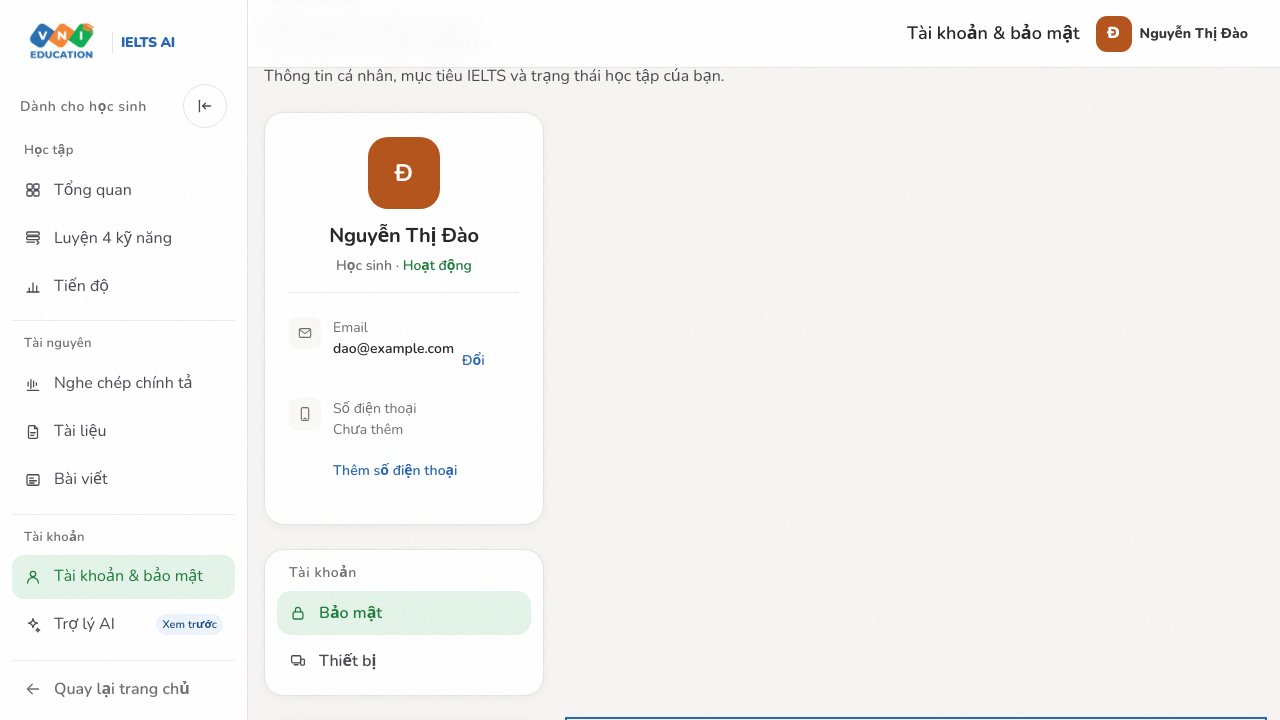
Test: lets an address be corrected after a typo
The width and height of the screenshot is (1280, 720).
(page scrolled)
Click the button "Đổi": click(473, 360) [462, 338, 485, 382]
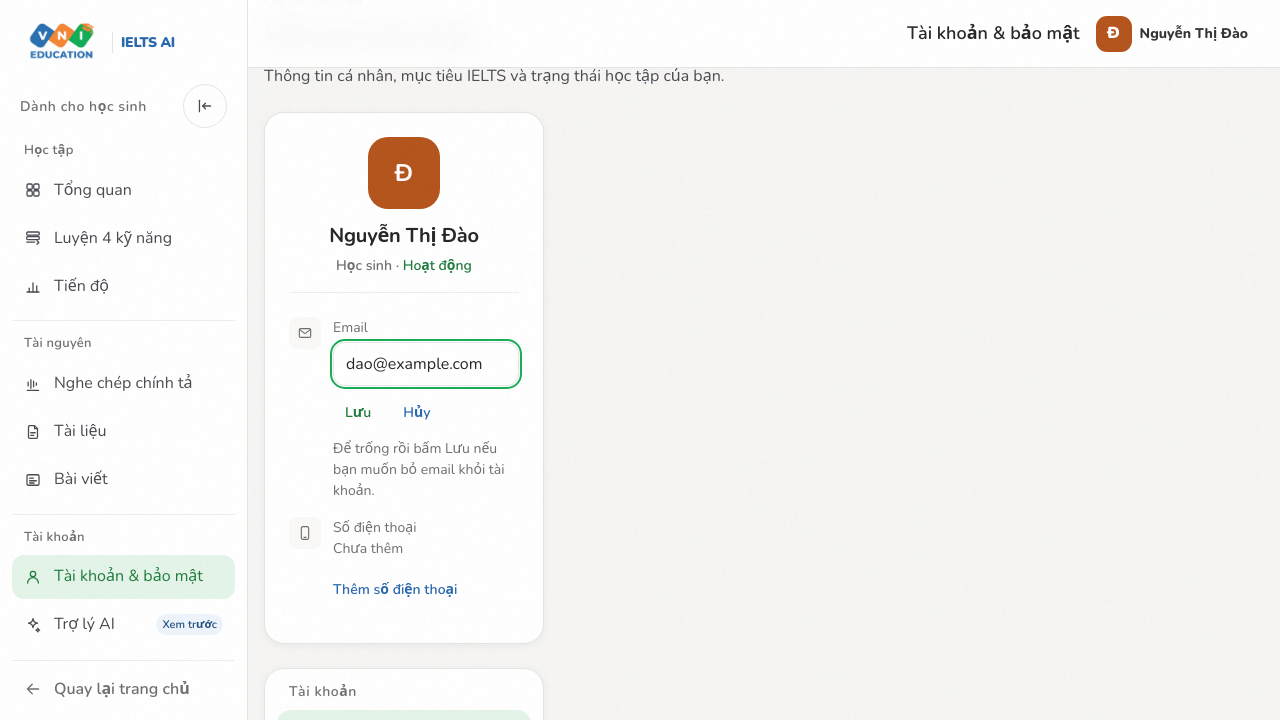
Replace the text in the field named "email" with "sua-lai@gmail.com": (426, 364) [333, 342, 519, 386]
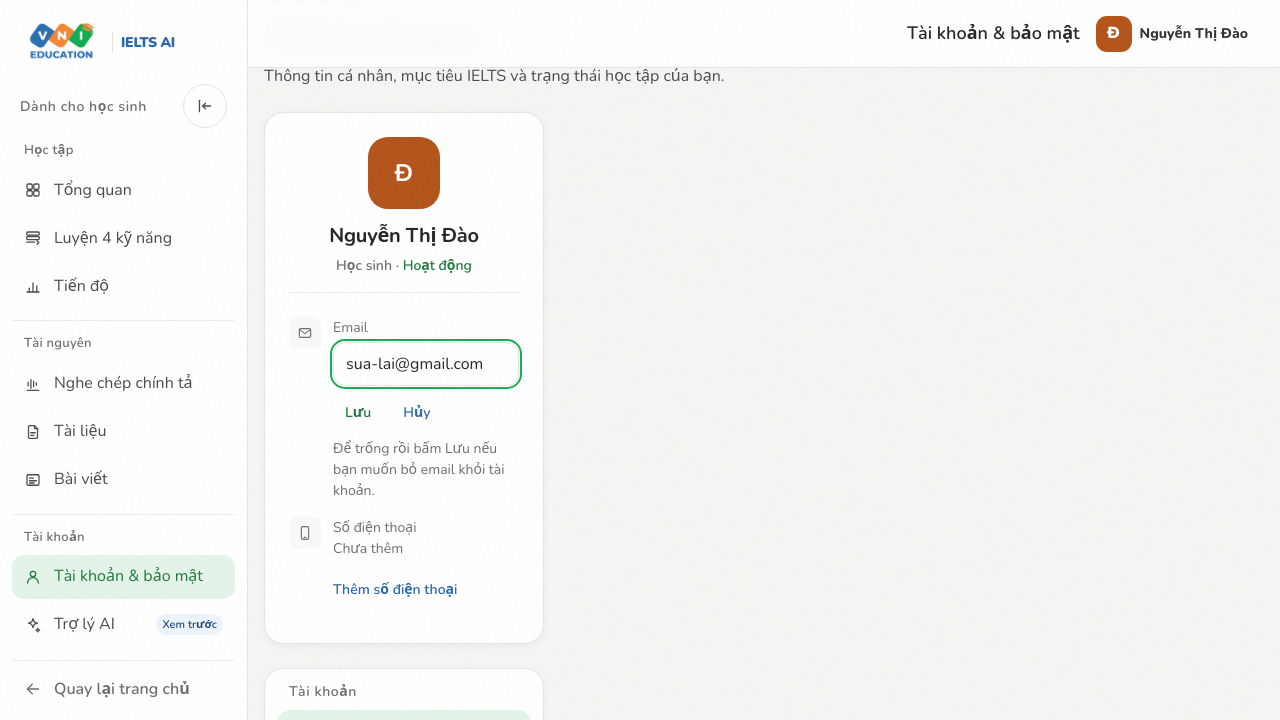
Click the button "Lưu": click(358, 412) [333, 390, 383, 434]
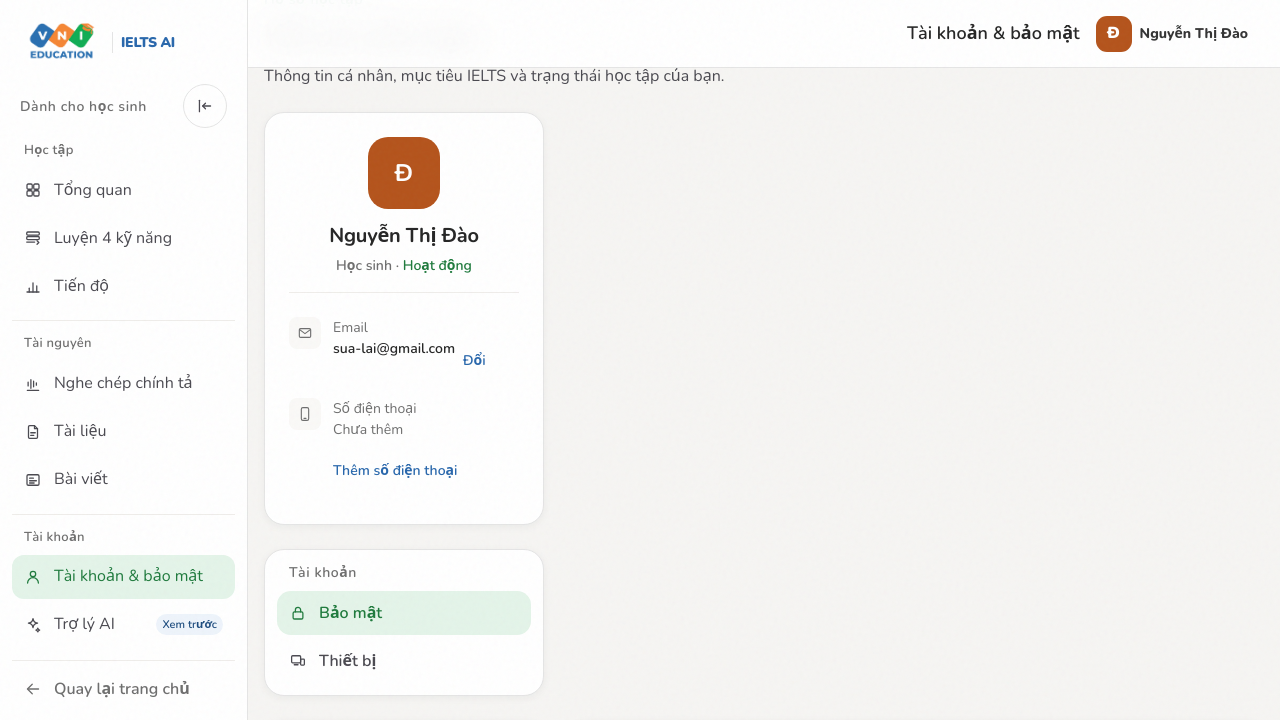
Check: the text "sua-lai@gmail.com" is shown, box [333, 338, 455, 359]
